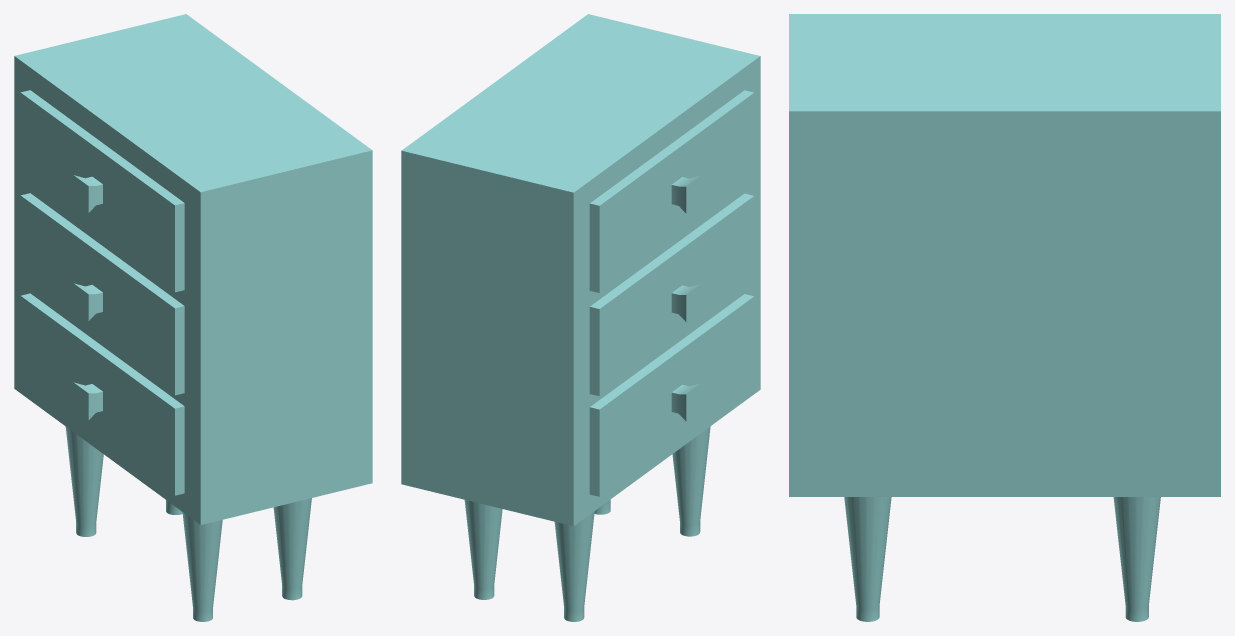
The model's file is nightstand.fbx.
The picture shows the model from 3 angles, left to right: view 1: azimuth 30°, elevation 25°; view 2: azimuth 150°, elevation 25°; view 3: azimuth 270°, elevation 25°; orthographic projection. The views are drawn at different scales.
Visible parts, largest first — view 1: pCube9; view 2: pCube9; view 3: pCube9.
Boxes of the visible parts, x1,y1,x2,y2 form: pCube9: [14, 14, 372, 621]; pCube9: [401, 14, 760, 621]; pCube9: [789, 14, 1220, 621].
Size of the model in its own units: 0.9227 by 2.04 by 1.5.
